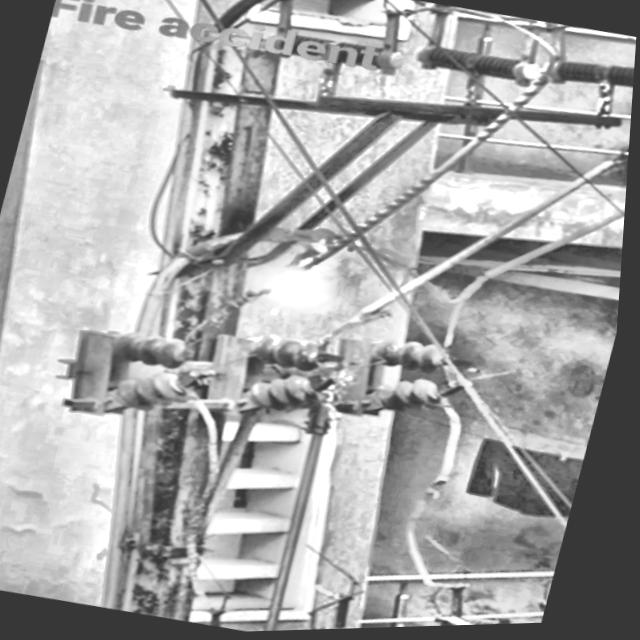Fire: (250, 257, 336, 320)
